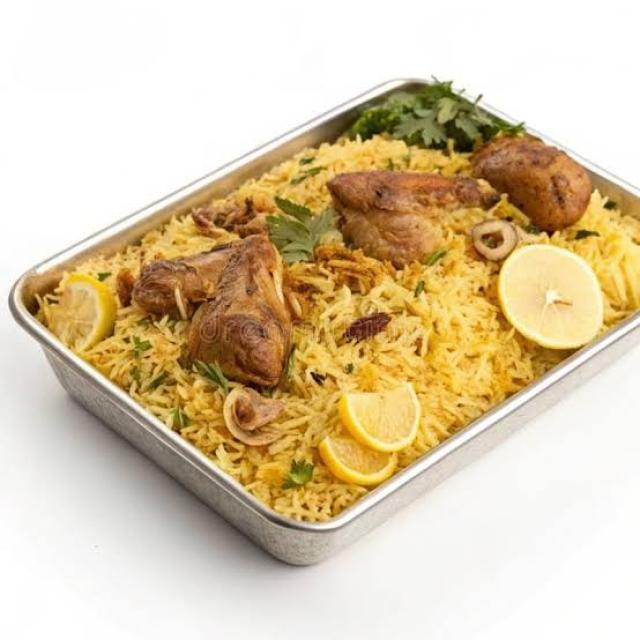Machboos: (271, 96, 640, 537), (18, 151, 281, 524)
